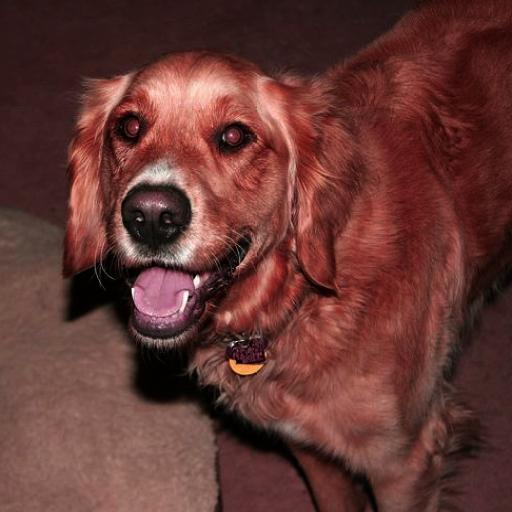dog_face: (62, 61, 328, 348)
